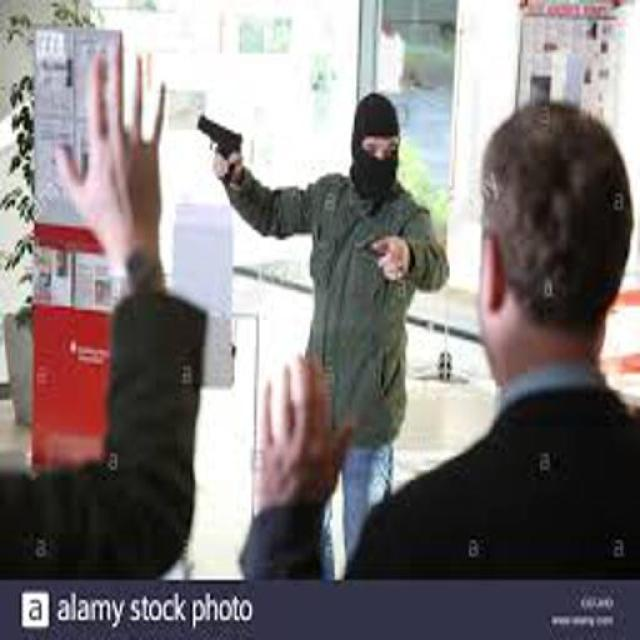pistol: (195, 112, 246, 180)
